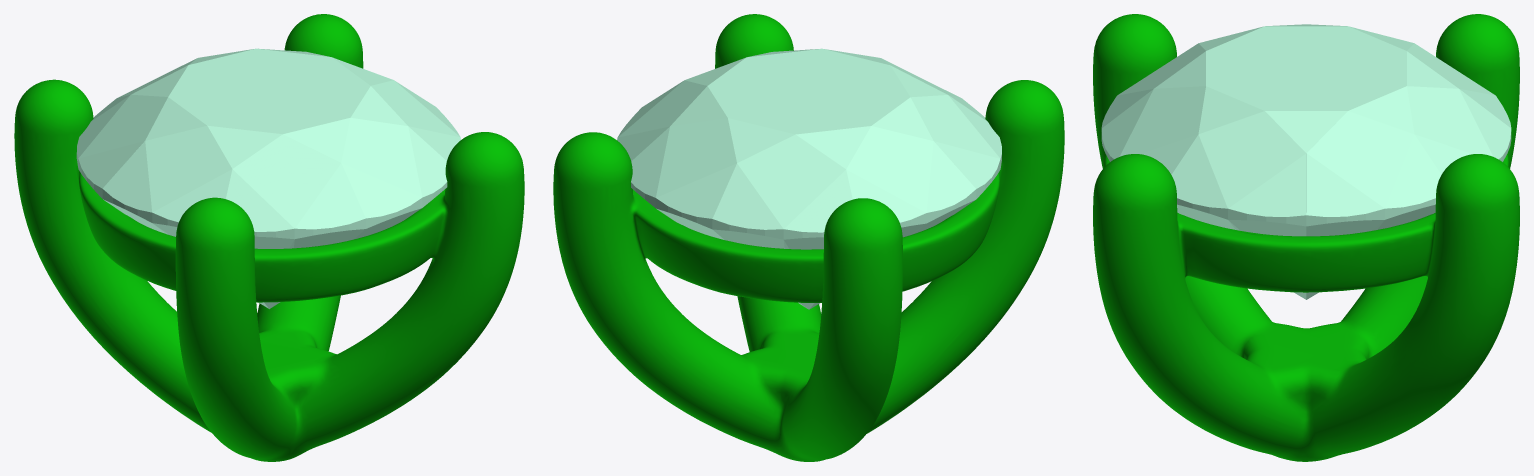
3 views of the same model, side by side, from view 1: azimuth 30°, elevation 25°; view 2: azimuth 150°, elevation 25°; view 3: azimuth 270°, elevation 25° (orthographic). The views are drawn at different scales.
Parts seen in each view (by area): view 1: Metal01, CS_Diamond; view 2: Metal01, CS_Diamond; view 3: Metal01, CS_Diamond.
Part boxes in pixels (x1,y1,x2,y2): Metal01: [14, 14, 524, 461]; CS_Diamond: [76, 48, 460, 308]; Metal01: [553, 14, 1064, 461]; CS_Diamond: [617, 48, 1001, 309]; Metal01: [1093, 14, 1519, 461]; CS_Diamond: [1101, 24, 1511, 299].
Size of the model in its own units: 5.27 by 5.36 by 5.42.
